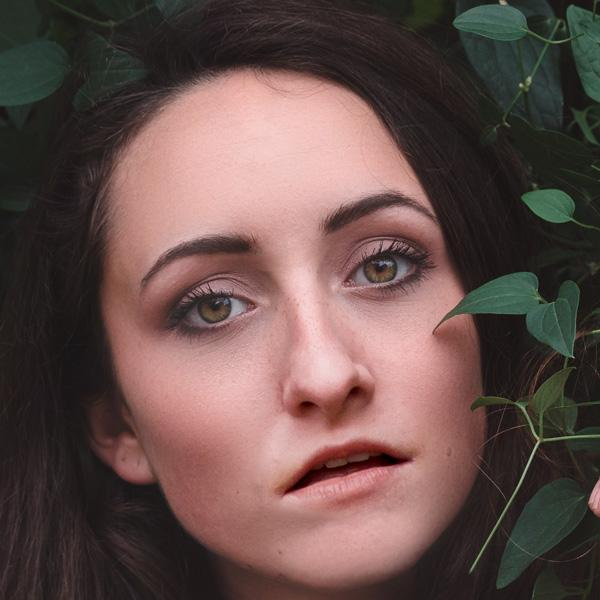Eyes: (162, 270, 265, 352), (334, 225, 436, 302)
